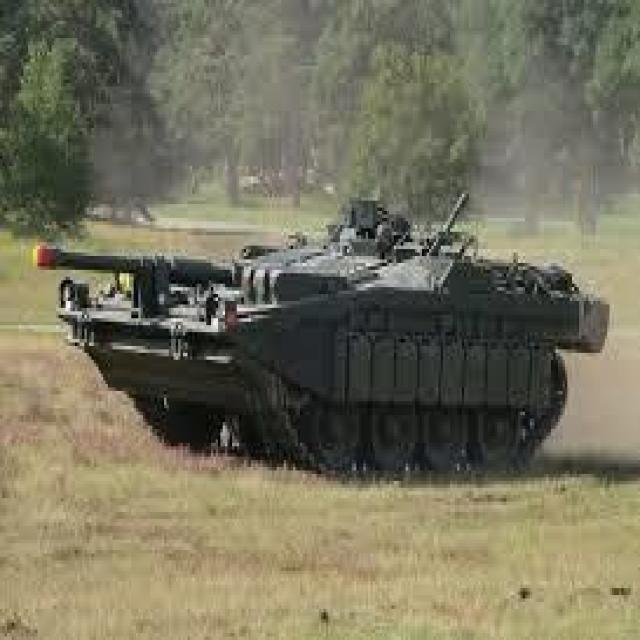Tanks: (22, 61, 576, 555)
